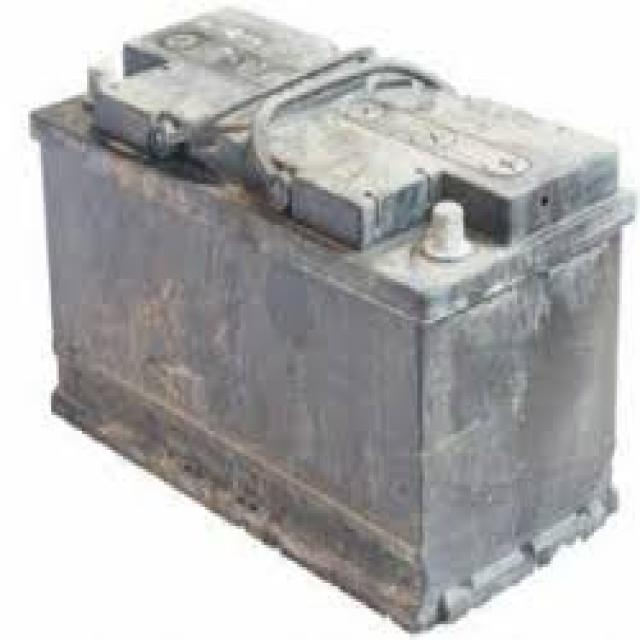hazard: (50, 12, 620, 615)
